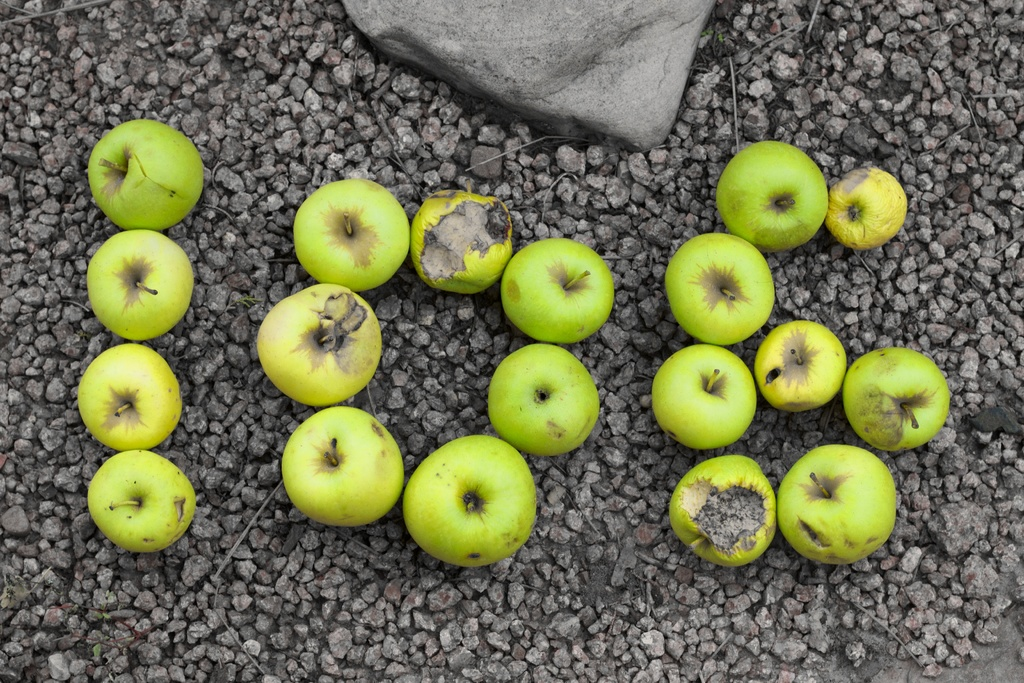Apple: (254, 175, 615, 569), (648, 138, 951, 568), (792, 455, 909, 568), (89, 115, 202, 228), (87, 226, 194, 340), (87, 445, 195, 556), (77, 343, 179, 448)
